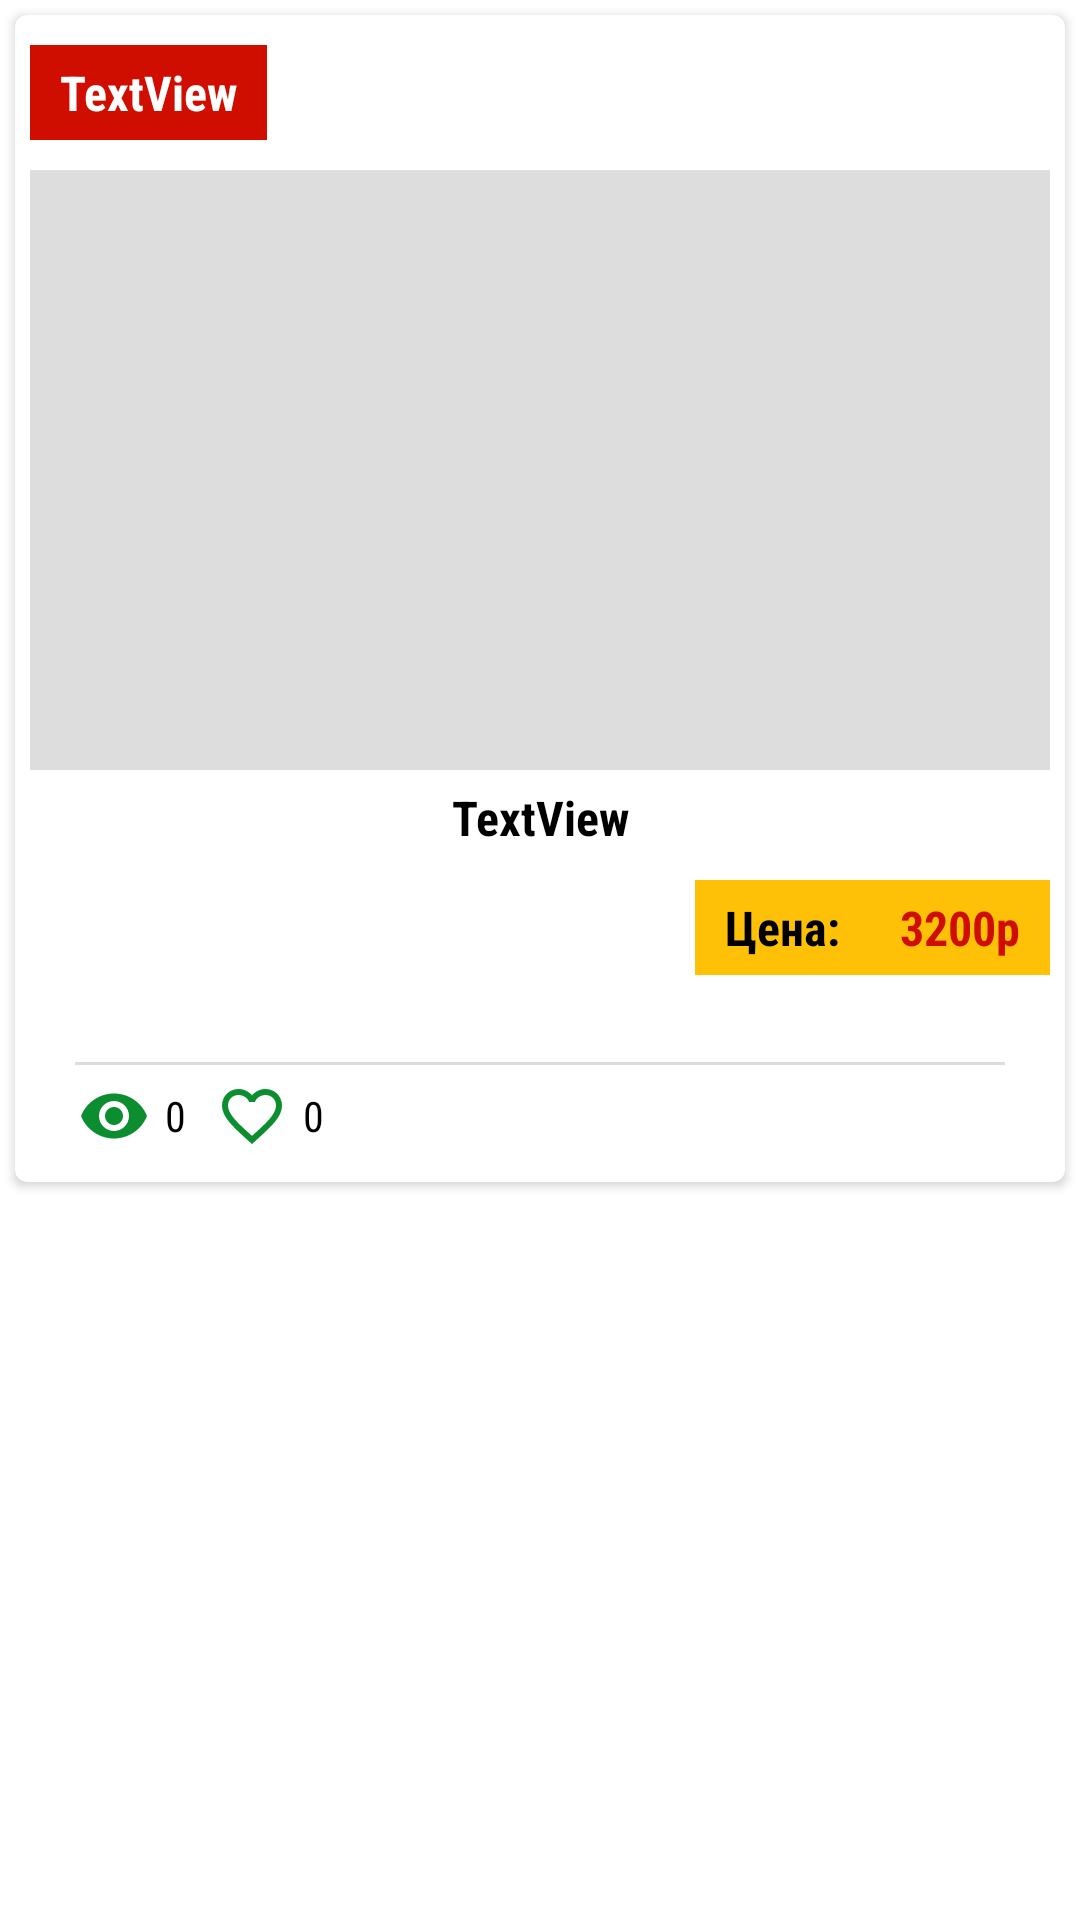

Where icons sit on this 1080 × 1920 app screen, as (x1, y1, x2, y2):
eye: (81, 1093, 147, 1139)
fav: (222, 1089, 282, 1144)
